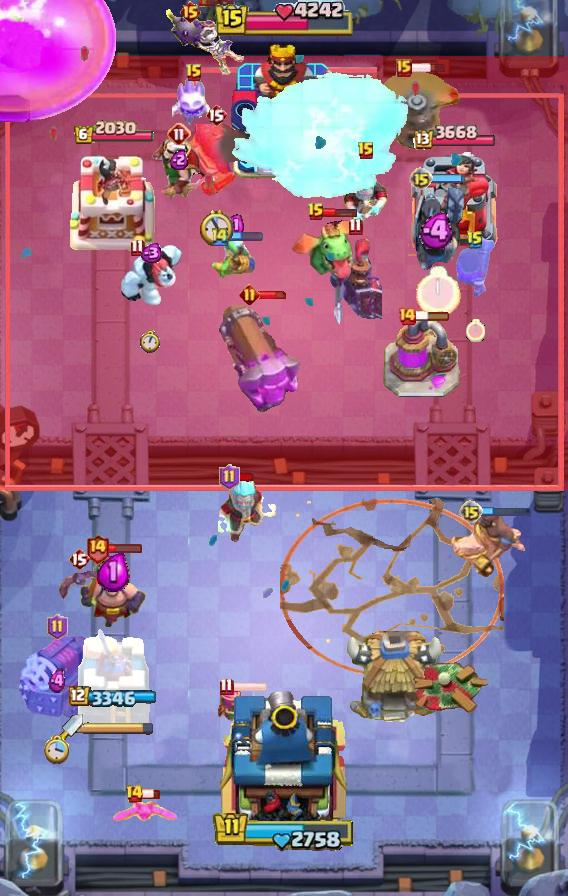bar: (75, 623, 153, 731)
barbarian: (110, 798, 180, 826)
barbarian-barrel: (55, 571, 103, 599)
bomb-tower: (453, 238, 497, 298)
cannon: (216, 686, 262, 730)
clock: (213, 811, 355, 852), (213, 0, 355, 40)
dark-prince: (376, 68, 460, 156)
electro-spirit: (419, 213, 457, 249), (97, 552, 130, 593), (138, 243, 163, 263), (49, 668, 68, 694), (224, 212, 244, 236), (170, 149, 189, 170)
electro-wizard: (287, 217, 365, 279)
elixir: (416, 266, 461, 318), (200, 209, 233, 246), (44, 735, 70, 765), (140, 330, 160, 353), (466, 319, 485, 342)
elixir-golem-big: (328, 239, 382, 329)
emote: (481, 506, 533, 519), (409, 62, 446, 74), (232, 681, 269, 693), (415, 310, 451, 322), (228, 231, 264, 242), (107, 542, 143, 553), (430, 173, 465, 184), (323, 206, 358, 217), (257, 290, 289, 300), (200, 0, 237, 8), (141, 788, 161, 800), (237, 471, 256, 483)
freeze: (448, 511, 526, 583)
furnace: (218, 300, 304, 424)
giant-snowball: (209, 235, 259, 279)
goblin-ball: (162, 7, 246, 77)
golem: (14, 631, 100, 721)
guard: (280, 498, 504, 678)
inferno-dragon: (408, 184, 468, 278)
king-tower: (214, 684, 354, 826), (230, 41, 338, 181)
king-tower-bar: (83, 721, 155, 735)
knight-evolution: (0, 0, 116, 123)
mega-knight: (229, 69, 413, 205)
mirror: (172, 73, 216, 127)
monk: (79, 552, 147, 630)
mortar: (212, 473, 278, 545), (342, 162, 390, 226)
pekka: (383, 317, 461, 399)
prince: (344, 631, 446, 727)
queen-tower: (68, 150, 160, 256), (408, 152, 498, 256)
rage: (117, 243, 183, 307)
royal-giant-evolution: (182, 124, 250, 198)
selected: (411, 125, 495, 152), (69, 686, 159, 710), (73, 120, 155, 146)
skeleton-king: (143, 136, 215, 202)
text: (85, 532, 110, 563), (167, 122, 191, 146), (409, 167, 433, 191), (459, 500, 483, 524), (178, 0, 201, 24), (220, 464, 241, 490), (48, 614, 69, 640), (205, 103, 227, 127), (68, 547, 90, 571), (240, 283, 261, 305), (210, 225, 230, 247), (397, 306, 417, 326), (124, 784, 143, 804), (185, 63, 203, 83), (357, 141, 375, 161), (307, 202, 325, 222), (466, 230, 484, 250), (396, 59, 412, 77), (131, 239, 146, 258), (349, 217, 364, 235), (218, 677, 233, 695)
